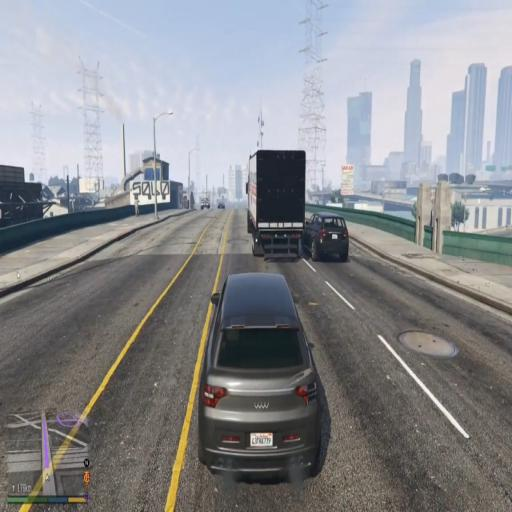Cars: (199, 267, 326, 487), (305, 204, 352, 268)
People: (133, 194, 141, 219)
Trucks: (240, 143, 310, 263)
